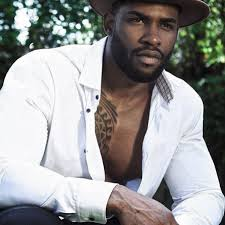black_male: (99, 1, 178, 91)
